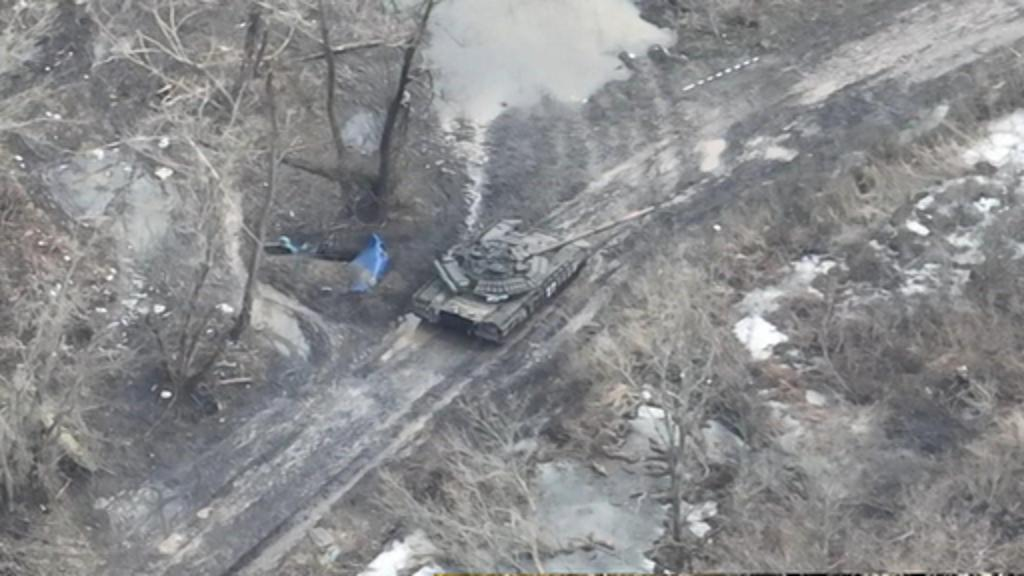TANK: (402, 204, 656, 344)
